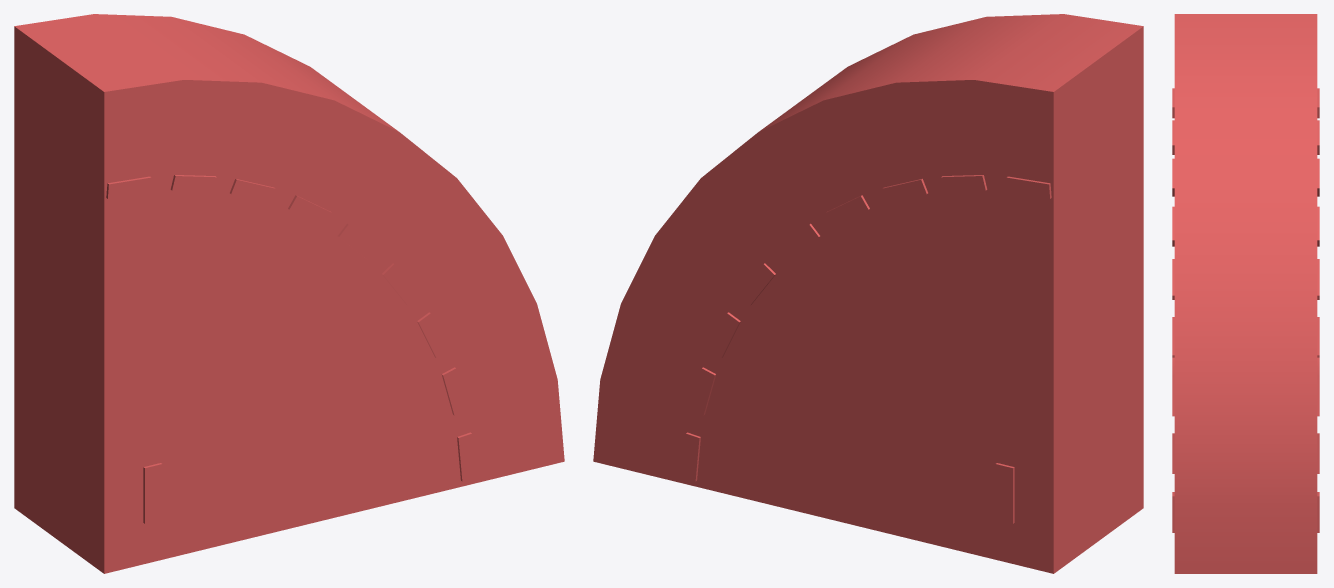
File: Curve3Color.fbx
3 renders of one model, left to right at view 1: azimuth 30°, elevation 25°; view 2: azimuth 150°, elevation 25°; view 3: azimuth 270°, elevation 25°, orthographic. The views are drawn at different scales.
Visible parts, largest first — view 1: polySurface486; view 2: polySurface486; view 3: polySurface486.
Boxes of the visible parts, x1,y1,x2,y2 form: polySurface486: (14, 14, 564, 573); polySurface486: (593, 14, 1143, 573); polySurface486: (1172, 14, 1319, 573).
Size of the model in its own units: 2.92 by 2.92 by 1.02.
